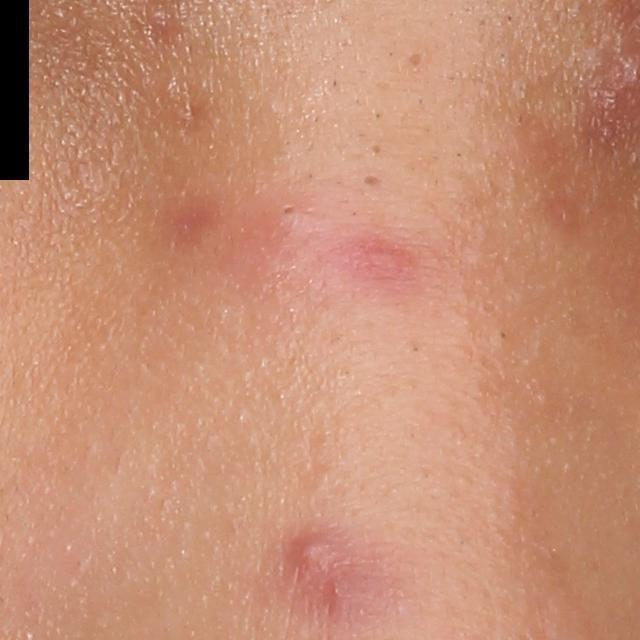comedo: (356, 169, 388, 195), (402, 45, 425, 72), (490, 325, 515, 347), (367, 138, 389, 158)
papule: (258, 188, 324, 248), (290, 530, 350, 582), (322, 563, 374, 608)
